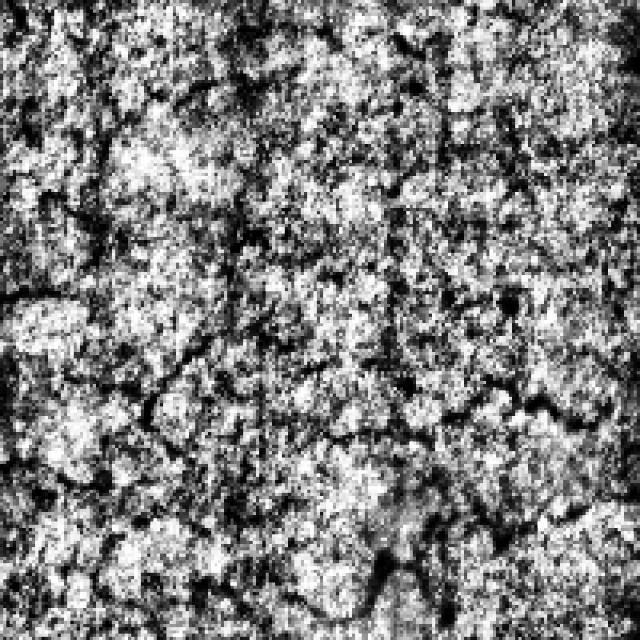Pitted_Surface: (6, 64, 218, 474), (284, 364, 630, 614)
